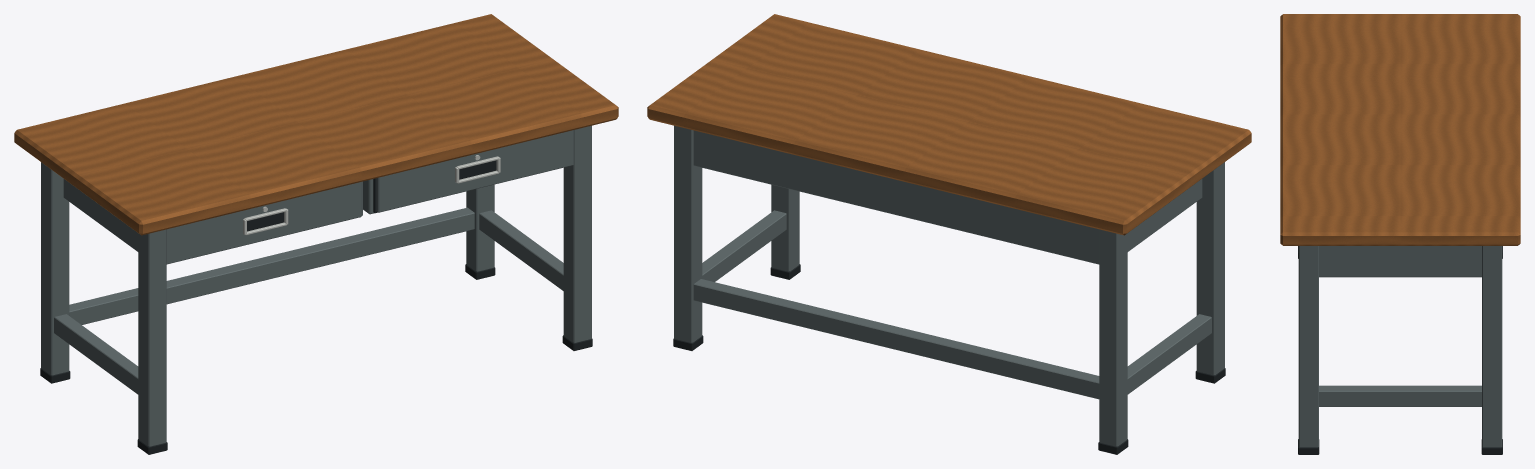
The model's file is lod2_source.glb.
The picture shows the model from 3 angles, left to right: view 1: azimuth 30°, elevation 25°; view 2: azimuth 150°, elevation 25°; view 3: azimuth 270°, elevation 25°; orthographic projection. The views are drawn at different scales.
Parts seen in each view (by area): view 1: Thick wood top, Rear low stretcher, Drawer front.001, Drawer front, Square steel leg, Square steel leg.002, Square steel leg.001, Lower side stretcher, Lower side stretcher.001, Square steel leg.003, Closed drawer cabinet; view 2: Thick wood top, Rear apron, Rear low stretcher, Square steel leg.001, Square steel leg.003, Square steel leg, Lower side stretcher, Lower side stretcher.001, Square steel leg.002, Closed drawer cabinet; view 3: Thick wood top, Closed drawer cabinet.001, Square steel leg.002, Square steel leg.003, Lower side stretcher.001.
Boxes of the visible parts, x1,y1,x2,y2 form: Thick wood top: (14,14,618,235); Rear low stretcher: (69,207,474,324); Drawer front.001: (376,130,573,212); Drawer front: (166,182,361,264); Square steel leg: (138,229,166,446); Square steel leg.002: (563,125,591,342); Square steel leg.001: (41,162,69,375); Lower side stretcher: (54,314,138,394); Lower side stretcher.001: (479,210,563,290); Square steel leg.003: (466,184,494,271); Closed drawer cabinet: (63,179,362,251); Thick wood top: (647,14,1251,235); Rear apron: (693,130,1099,264); Rear low stretcher: (693,279,1099,399); Square steel leg.001: (1099,229,1127,446); Square steel leg.003: (674,125,702,342); Square steel leg: (1196,162,1224,375); Lower side stretcher: (1127,314,1211,394); Lower side stretcher.001: (702,210,786,281); Square steel leg.002: (771,184,799,271); Closed drawer cabinet: (1127,179,1202,251); Thick wood top: (1280,14,1520,245); Closed drawer cabinet.001: (1319,246,1481,277); Square steel leg.002: (1298,246,1318,447); Square steel leg.003: (1482,246,1502,447); Lower side stretcher.001: (1319,385,1481,406).
Size of the model in its own units: 1.65 by 0.802 by 0.76.
4 materials, 1 textured.
